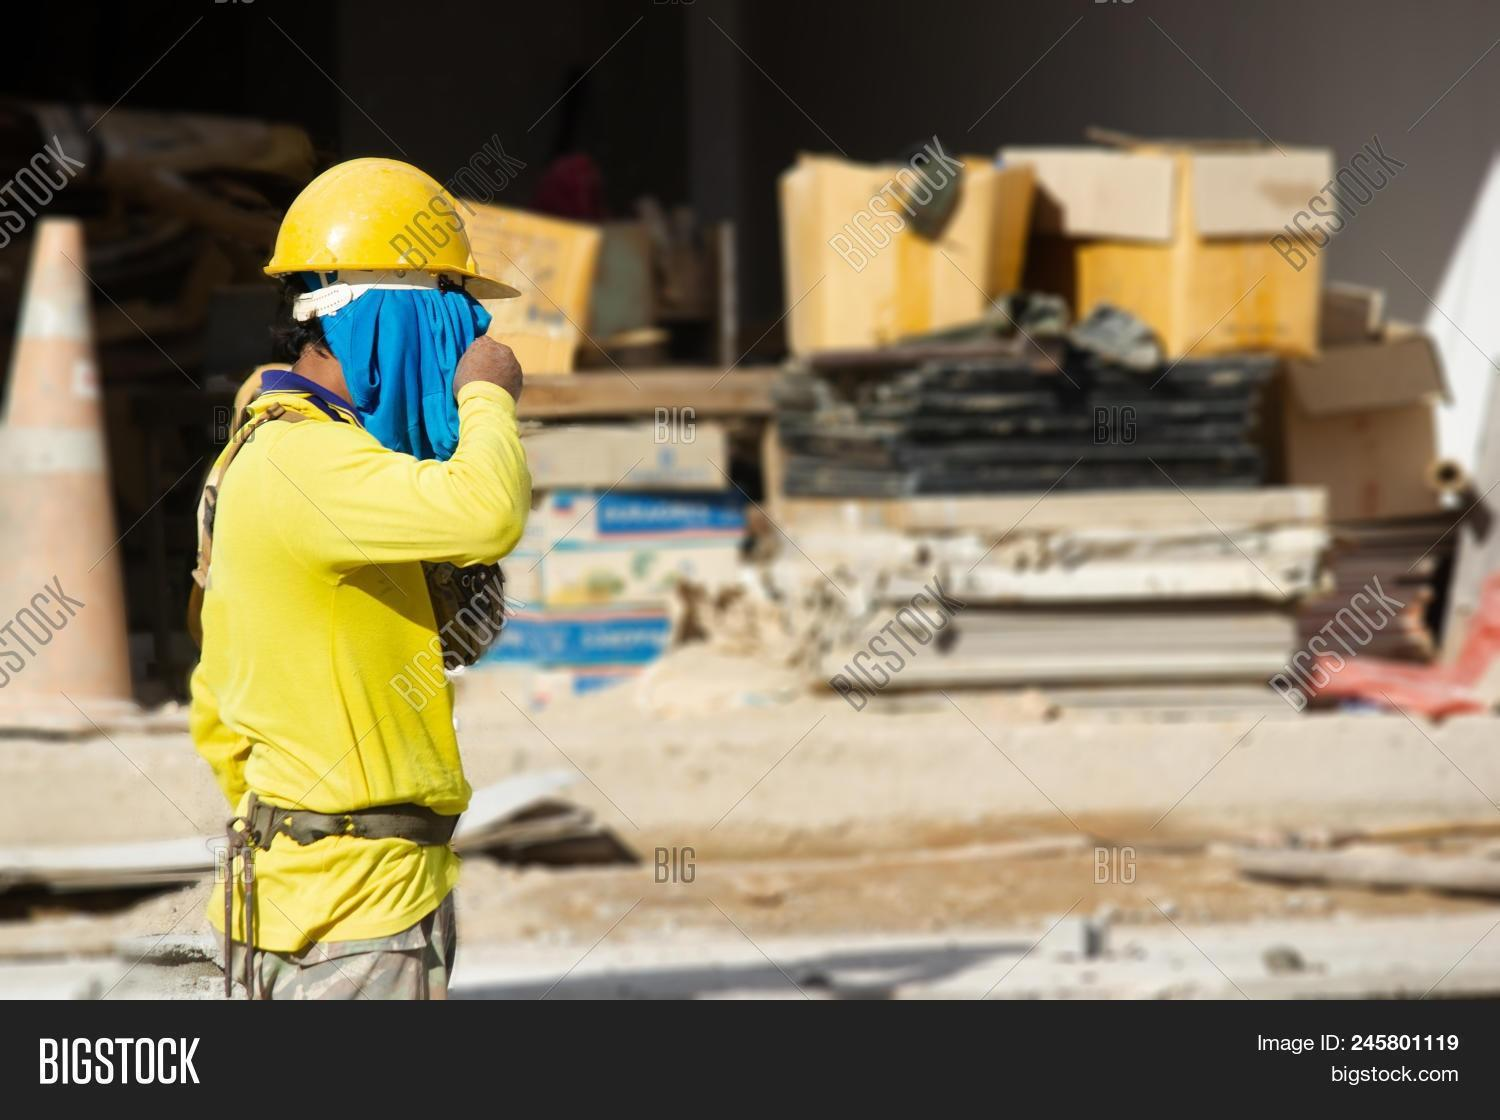helmet: (268, 161, 526, 325)
no-vest: (199, 355, 476, 851)
person: (172, 145, 541, 1009)
